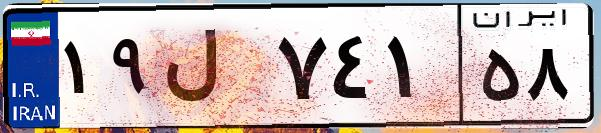1: (385, 28, 445, 110), (57, 26, 110, 100)
4: (330, 28, 385, 110)
5: (475, 38, 525, 113)
7: (270, 28, 330, 110)
8: (525, 38, 570, 115)
9: (110, 28, 158, 98)
ل: (158, 20, 270, 120)
